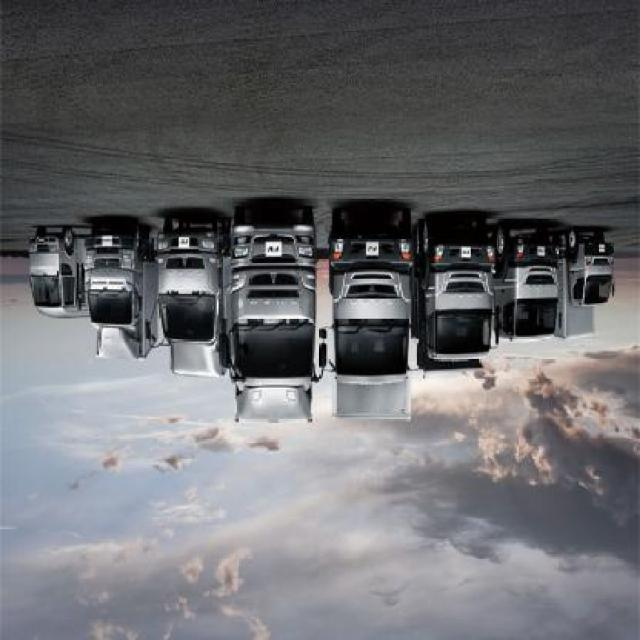truck: (219, 211, 333, 434), (330, 212, 417, 432), (413, 216, 498, 381), (161, 204, 233, 386), (87, 209, 163, 369), (495, 215, 566, 352), (559, 227, 620, 341)
